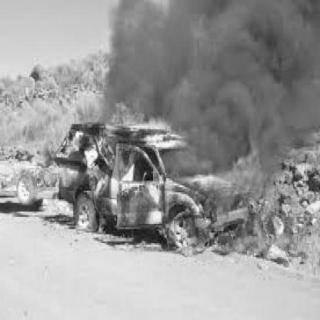Fire: (159, 142, 269, 256), (73, 97, 153, 236)
Smoke: (116, 0, 320, 138)
